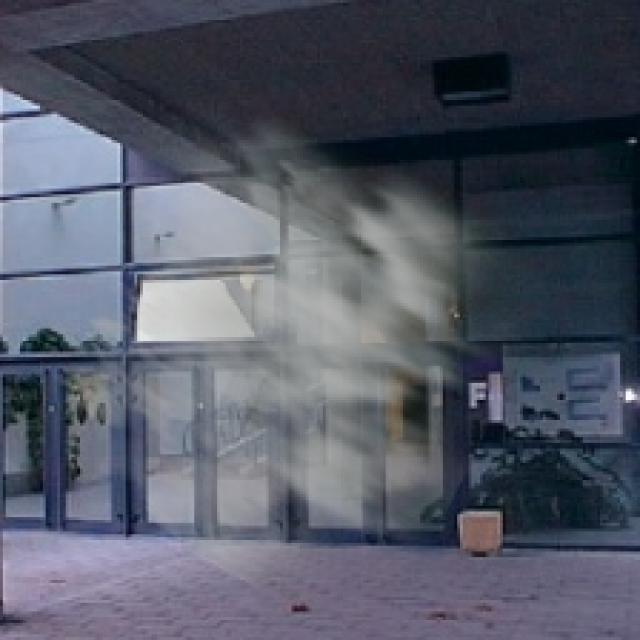smoke: (51, 97, 568, 612)
